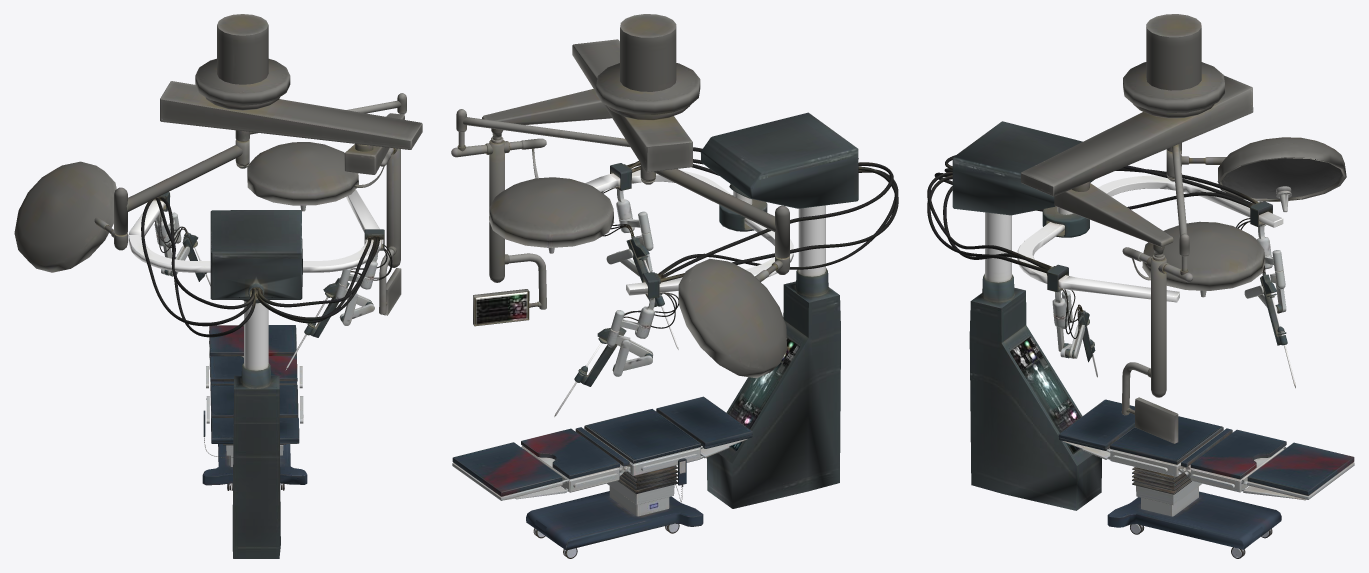
Rendered from operating-table.glb.
3 views of the same model, side by side, from view 1: azimuth 30°, elevation 25°; view 2: azimuth 150°, elevation 25°; view 3: azimuth 270°, elevation 25° (orthographic). The views are drawn at different scales.
Parts seen in each view (by area): view 1: Lamp, MechanicalArm, Table; view 2: MechanicalArm, Lamp, Table; view 3: MechanicalArm, Lamp, Table.
Boxes of the visible parts, x1,y1,x2,y2 form: Lamp: [14, 14, 422, 315]; MechanicalArm: [128, 190, 392, 558]; Table: [202, 325, 307, 490]; MechanicalArm: [554, 112, 898, 508]; Lamp: [451, 14, 789, 378]; Table: [452, 396, 752, 558]; MechanicalArm: [927, 121, 1295, 510]; Lamp: [1021, 14, 1346, 443]; Table: [1058, 399, 1354, 558].
Bounding box in the file's own units: 0.8882 × 1.15 × 0.8975.
Materials: 3 (3 with a texture image).
